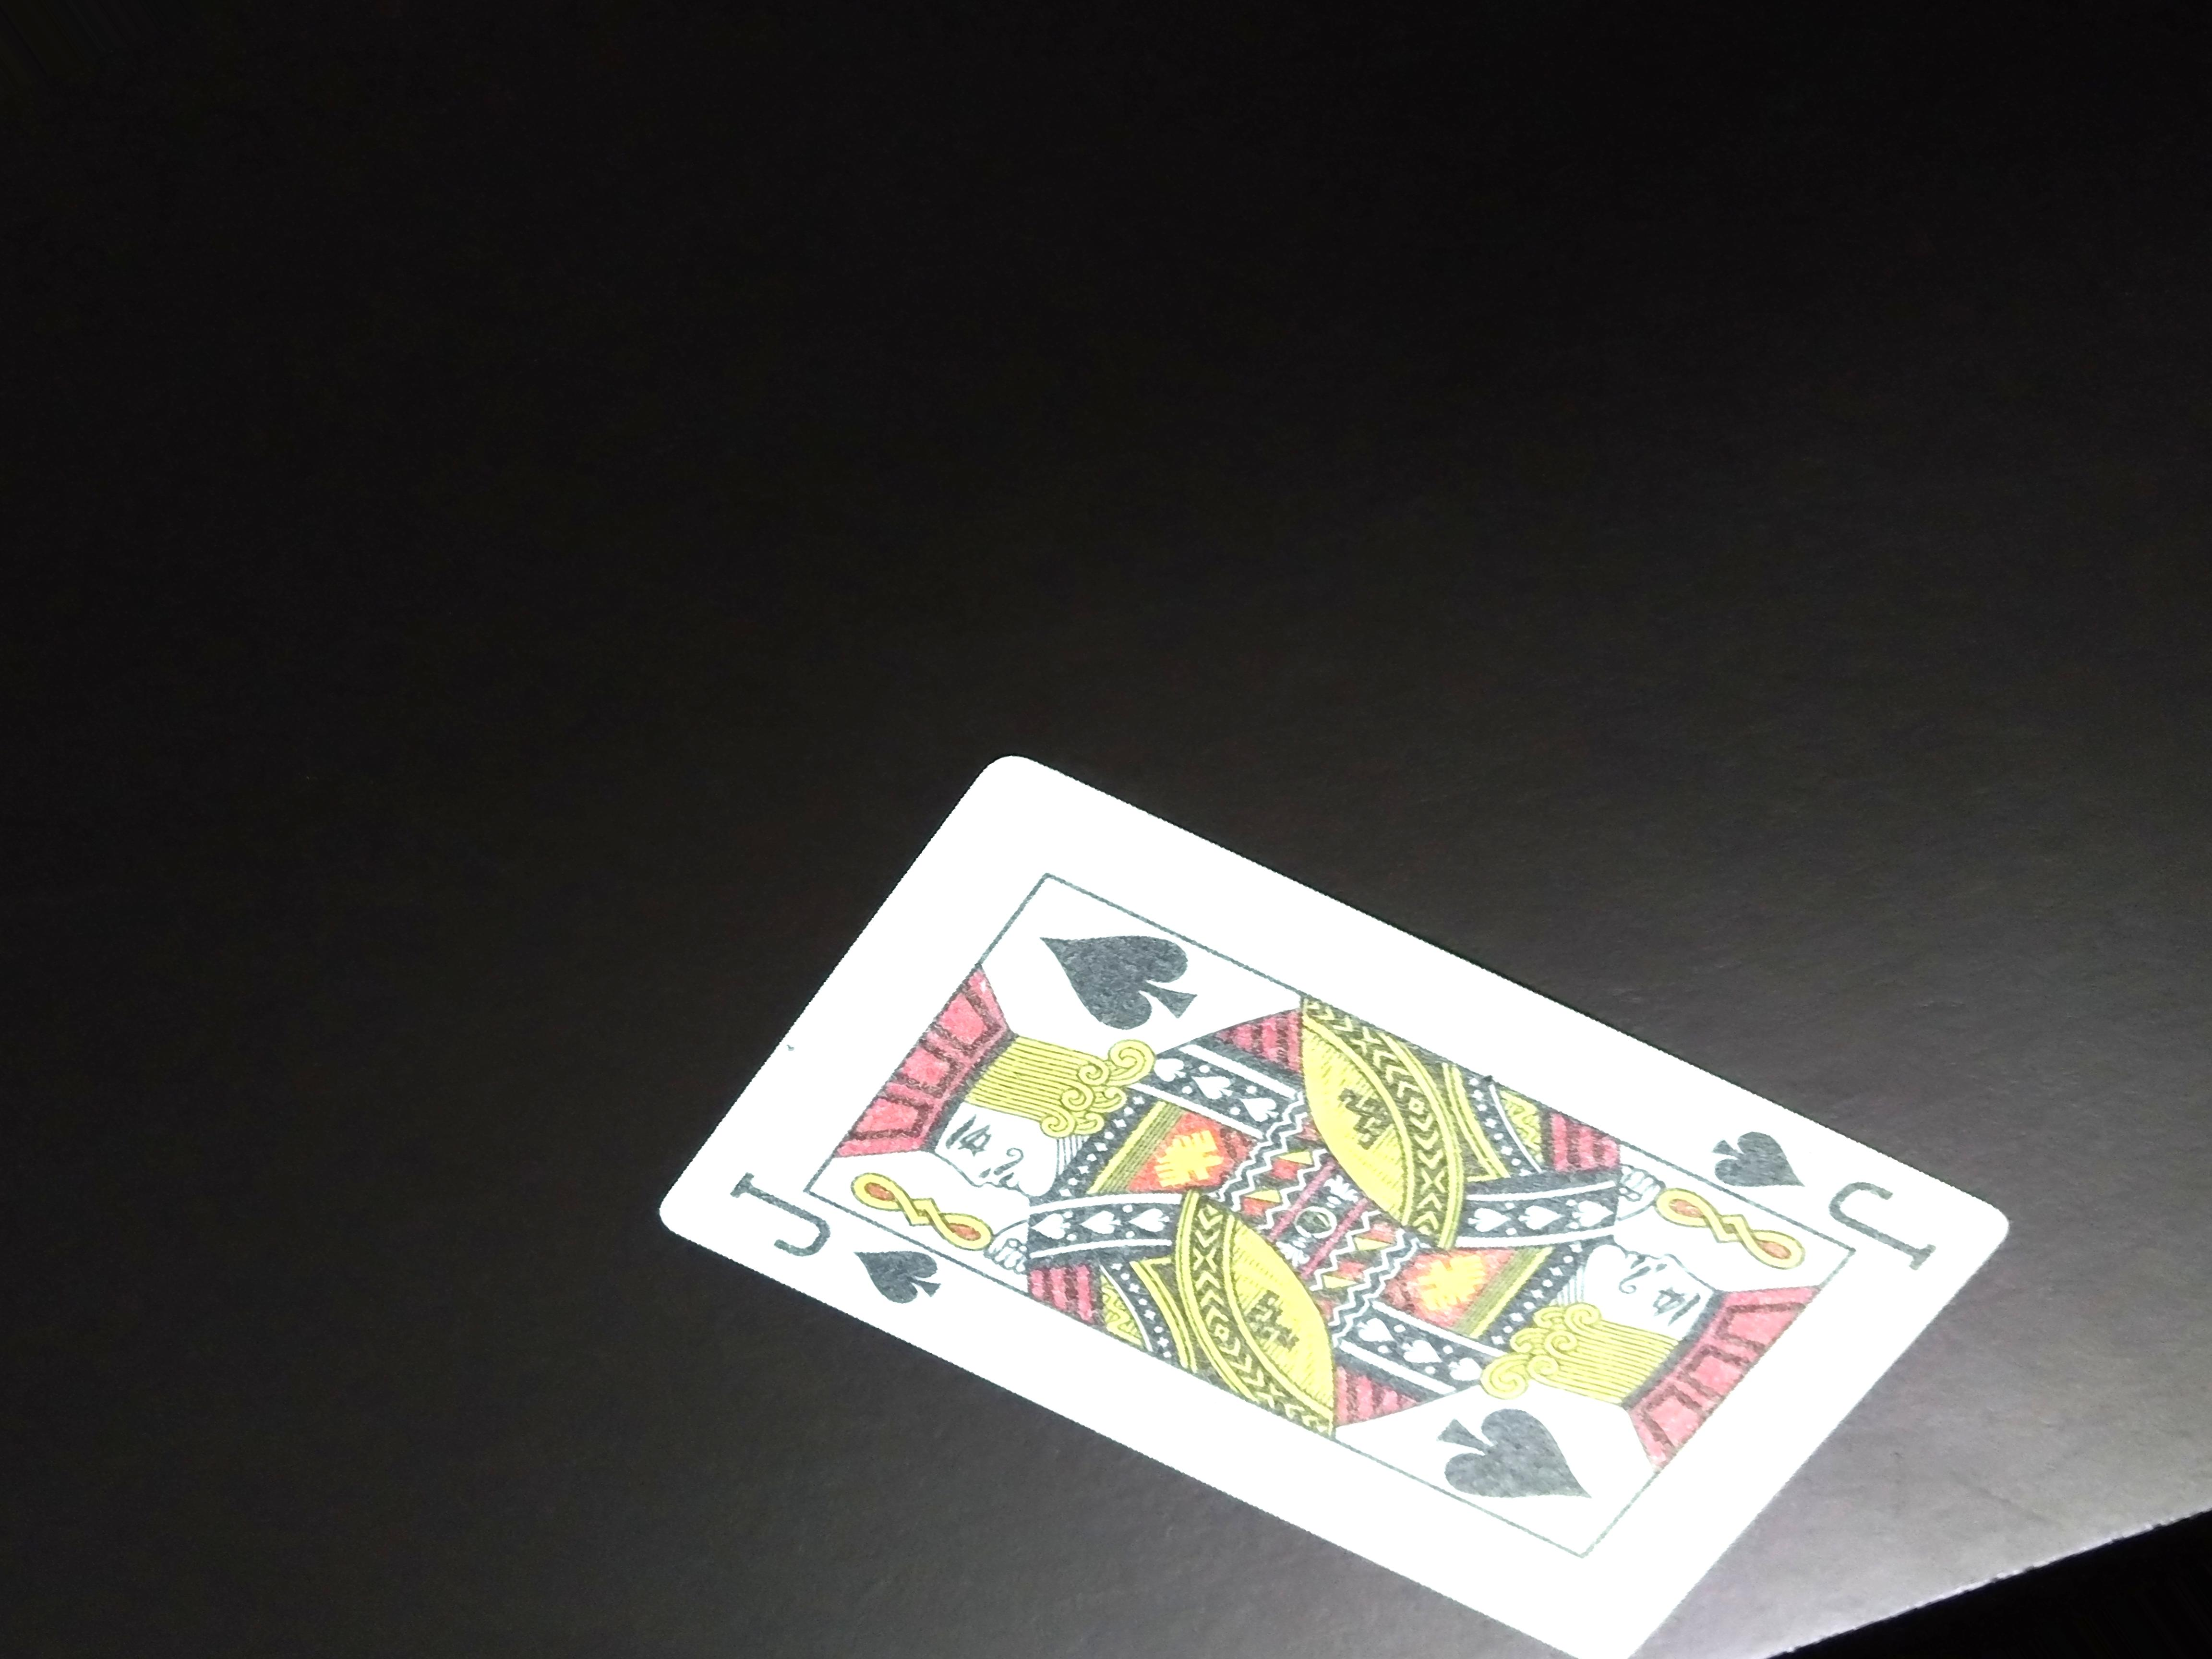JS: (1707, 1110, 1949, 1267)
